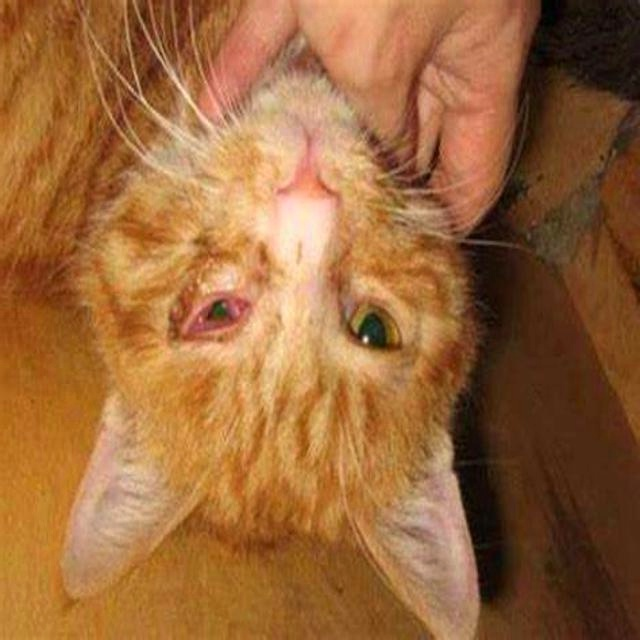eye_infection: (179, 287, 251, 344), (338, 298, 399, 355)
